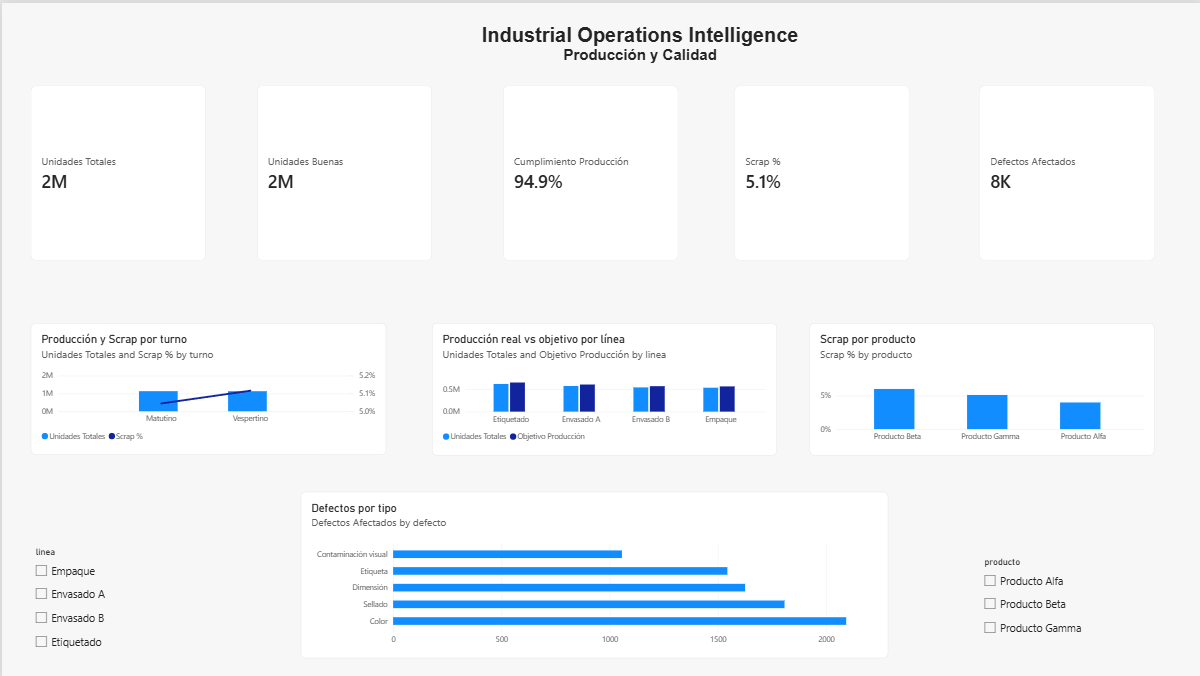

What the dashboard file says about the page in this screenshot:
{"tool":"powerbi","page":{"name":"Producción y Calidad","canvas":[1920,1080],"ordinal":1},"visuals":[{"type":"cardVisual","fields":{"Data":["Medidas.Unidades Totales"]},"box":[46,132,280,280],"z":0},{"type":"cardVisual","fields":{"Data":["Medidas.Unidades Buenas"]},"box":[408,132,280,280],"z":1000},{"type":"cardVisual","fields":{"Data":["Medidas.Cumplimiento Producción"]},"box":[802,132,280,280],"z":2000},{"type":"cardVisual","fields":{"Data":["Medidas.Scrap %"]},"box":[1172,132,280,280],"z":3000},{"type":"cardVisual","fields":{"Data":["Medidas.Defectos Afectados"]},"box":[1564,132,280,280],"z":4000},{"type":"slicer","fields":{"Values":["DimLinea.linea"]},"box":[46,870,280,178],"z":5000},{"type":"slicer","fields":{"Values":["DimProducto.producto"]},"box":[1564,886,280,146],"z":6000},{"type":"clusteredColumnChart","title":"Producción real vs objetivo por línea","fields":{"Category":["DimLinea.linea"],"Y":["Medidas.Unidades Totales","Medidas.Objetivo Producción"]},"box":[688,512,552,212],"z":7000},{"type":"clusteredColumnChart","title":"Scrap por producto","fields":{"Category":["DimProducto.producto"],"Y":["Medidas.Scrap %"]},"box":[1292,512,552,212],"z":8000},{"type":"clusteredBarChart","title":"Defectos por tipo","fields":{"Category":["T_Calidad.defecto"],"Y":["Medidas.Defectos Afectados"]},"box":[478,782,940,266],"z":9000},{"type":"lineClusteredColumnComboChart","title":"Producción y Scrap por turno","fields":{"Category":["T_Produccion.turno"],"Y":["Medidas.Unidades Totales"],"Y2":["Medidas.Scrap %"]},"box":[46,512,568.6,211.4],"z":10000},{"type":"textbox","box":[478,34,1086,98],"z":10001}]}

Visuals, with their boxes in screenshot pixels (x1, y1, x2, y2), scaled from the page's 1920x1080 canvas onto the 1200x676 screenshot:
cardVisual - Medidas.Unidades Totales: <bbox>29, 83, 204, 258</bbox>
cardVisual - Medidas.Unidades Buenas: <bbox>255, 83, 430, 258</bbox>
cardVisual - Medidas.Cumplimiento Producción: <bbox>501, 83, 676, 258</bbox>
cardVisual - Medidas.Scrap %: <bbox>732, 83, 908, 258</bbox>
cardVisual - Medidas.Defectos Afectados: <bbox>978, 83, 1152, 258</bbox>
slicer - DimLinea.linea: <bbox>29, 545, 204, 656</bbox>
slicer - DimProducto.producto: <bbox>978, 555, 1152, 646</bbox>
"Producción real vs objetivo por línea" clusteredColumnChart: <bbox>430, 320, 775, 453</bbox>
"Scrap por producto" clusteredColumnChart: <bbox>808, 320, 1152, 453</bbox>
"Defectos por tipo" clusteredBarChart: <bbox>299, 489, 886, 656</bbox>
"Producción y Scrap por turno" lineClusteredColumnComboChart: <bbox>29, 320, 384, 453</bbox>
textbox: <bbox>299, 21, 978, 83</bbox>
